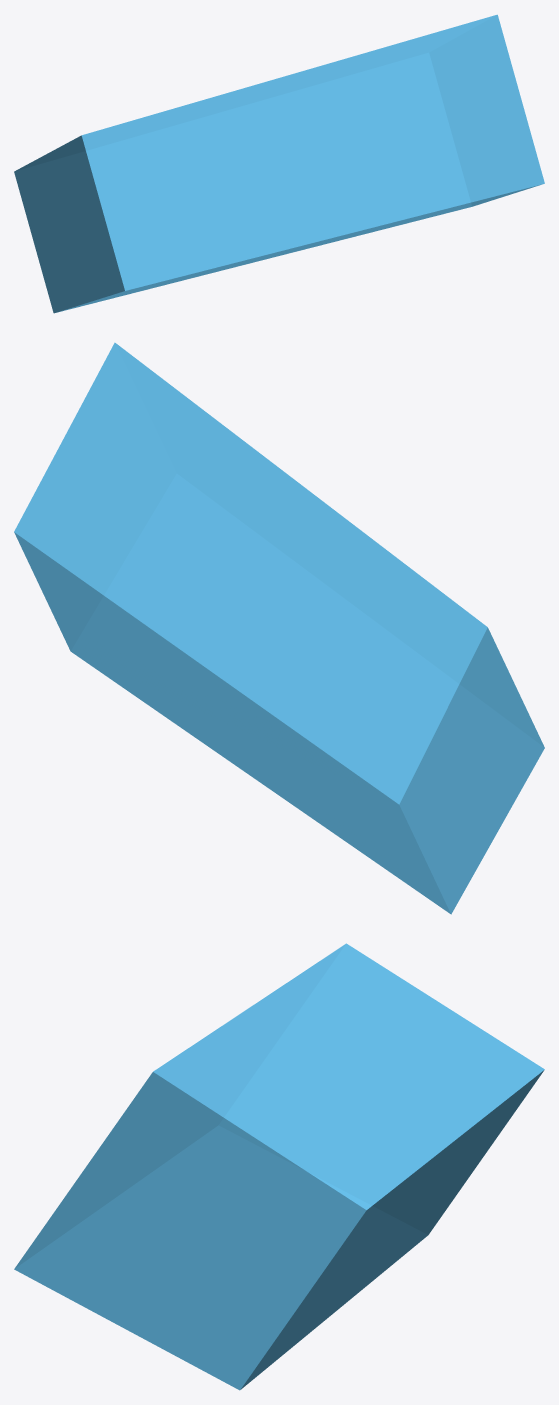
File: Event_421115418_HErechit_39.fbx
3 views of the same model, one above another, from view 1: azimuth 30°, elevation 25°; view 2: azimuth 150°, elevation 25°; view 3: azimuth 270°, elevation 25° (orthographic). The views are drawn at different scales.
Visible parts, largest first — view 1: Model; view 2: Model; view 3: Model.
Part boxes in pixels (x1,y1,x2,y2): Model: [14, 14, 544, 313]; Model: [14, 342, 544, 914]; Model: [14, 943, 544, 1390].
Bounding box in the file's own units: 0.891 × 0.6779 × 0.787.
